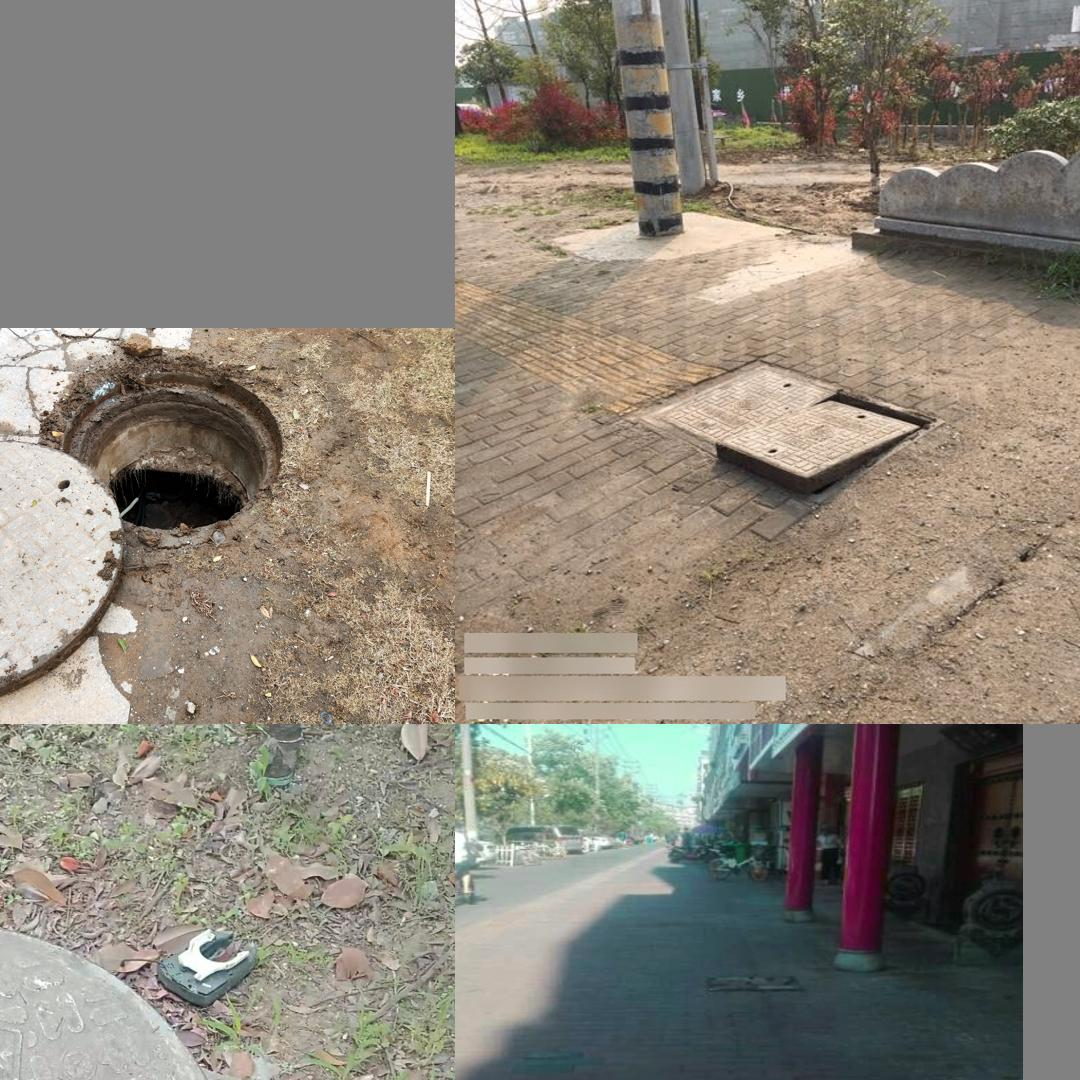uncovered: (0, 361, 278, 707), (0, 920, 455, 1080), (642, 357, 939, 484)
